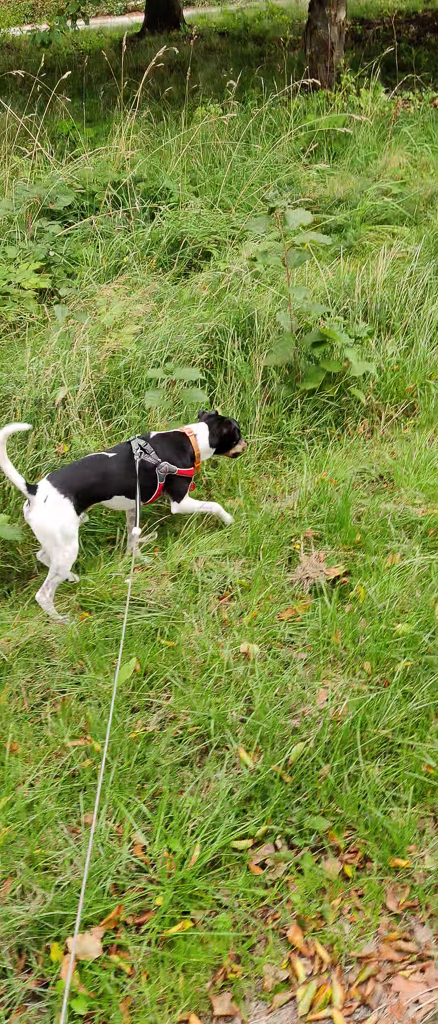Dog: (0, 388, 256, 634)
